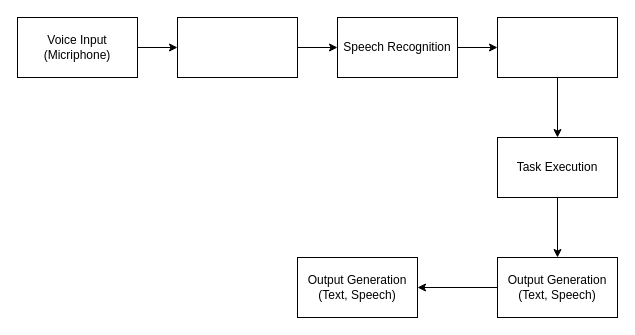
The diagram is 635 pixels wide and 335 high, and some of its shapes have lost their labels. Each missing label, with the centre of its shape:
Natural Language Understanding: point (557, 47)
Signal Processing: point (237, 47)
